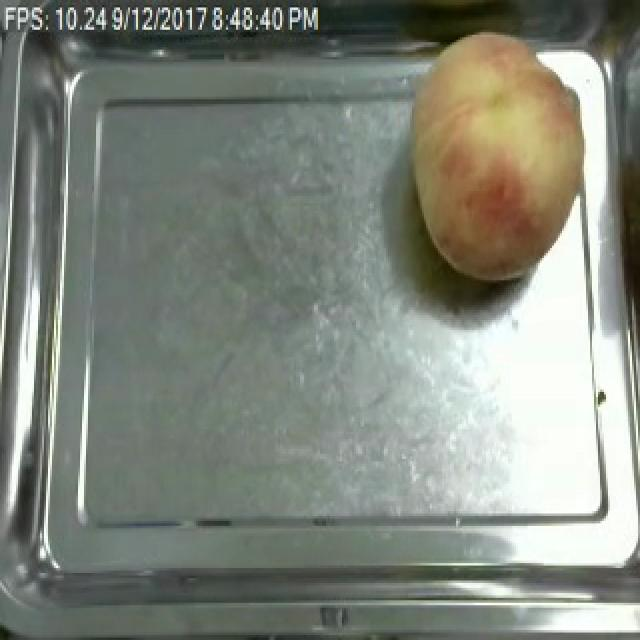Fruit: (396, 20, 594, 290)
